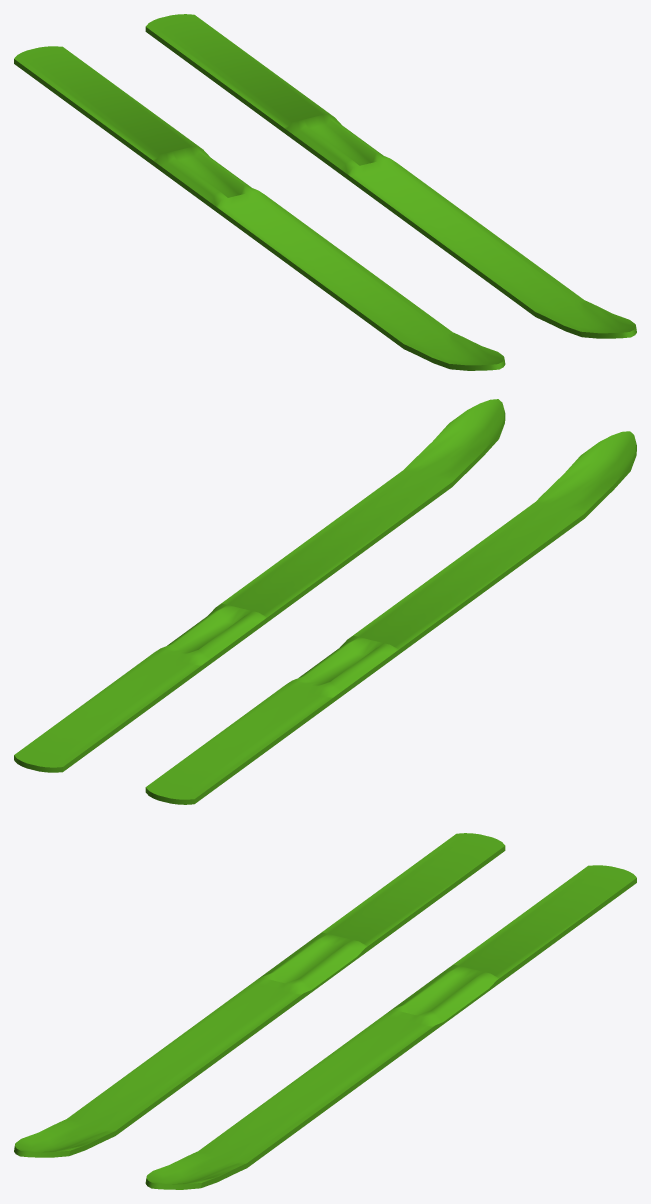
File: esquis.obj
The picture shows the model from 3 angles, top to bottom: view 1: azimuth 30°, elevation 25°; view 2: azimuth 150°, elevation 25°; view 3: azimuth 330°, elevation 25°; orthographic projection.
Visible parts, largest first — view 1: Box001, Box002; view 2: Box002, Box001; view 3: Box002, Box001.
Part boxes in pixels (x1=…): Box001: x1=145, y1=14, x2=636, y2=338; Box002: x1=14, y1=46, x2=505, y2=370; Box002: x1=145, y1=431, x2=636, y2=804; Box001: x1=14, y1=399, x2=505, y2=772; Box002: x1=14, y1=833, x2=505, y2=1157; Box001: x1=145, y1=865, x2=636, y2=1189.
Bounding box in the file's own units: 14.53 × 2.35 × 64.96.
